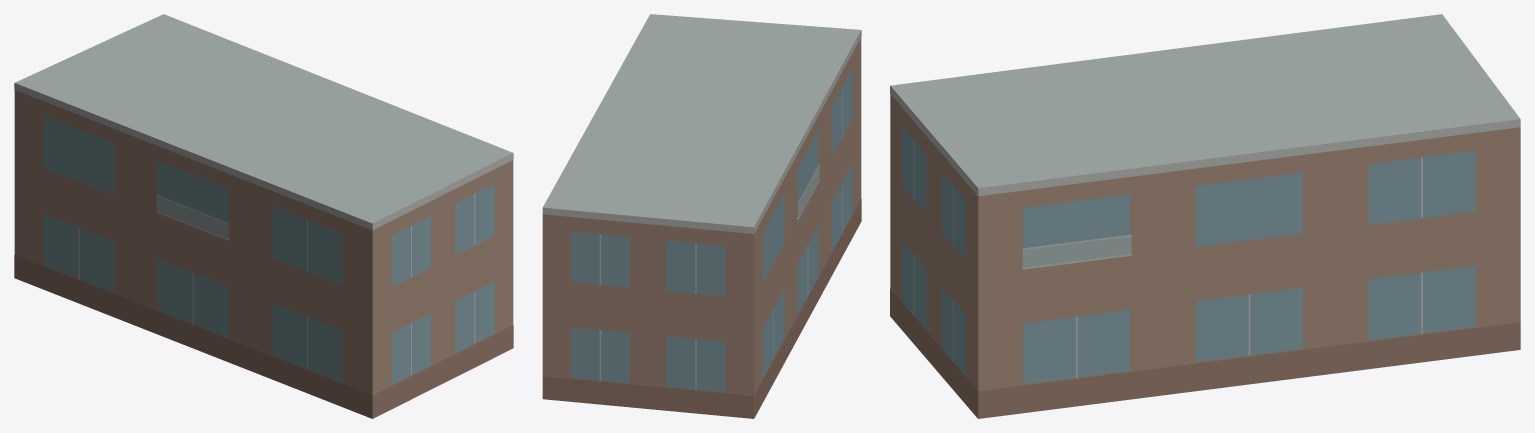
The model's file is survey-upis-32494642.glb.
The picture shows the model from 3 angles, left to right: view 1: azimuth 30°, elevation 25°; view 2: azimuth 150°, elevation 25°; view 3: azimuth 270°, elevation 25°; orthographic projection. The views are drawn at different scales.
Visible parts, largest first — view 1: survey-upis-32494642.tmp; view 2: survey-upis-32494642.tmp; view 3: survey-upis-32494642.tmp.
Part boxes in pixels (left/top/right/bottom): survey-upis-32494642.tmp: left=14, top=14, right=513, bottom=418; survey-upis-32494642.tmp: left=542, top=14, right=861, bottom=418; survey-upis-32494642.tmp: left=890, top=14, right=1520, bottom=418.
Size of the model in its own units: 11.35 by 7 by 17.35.
